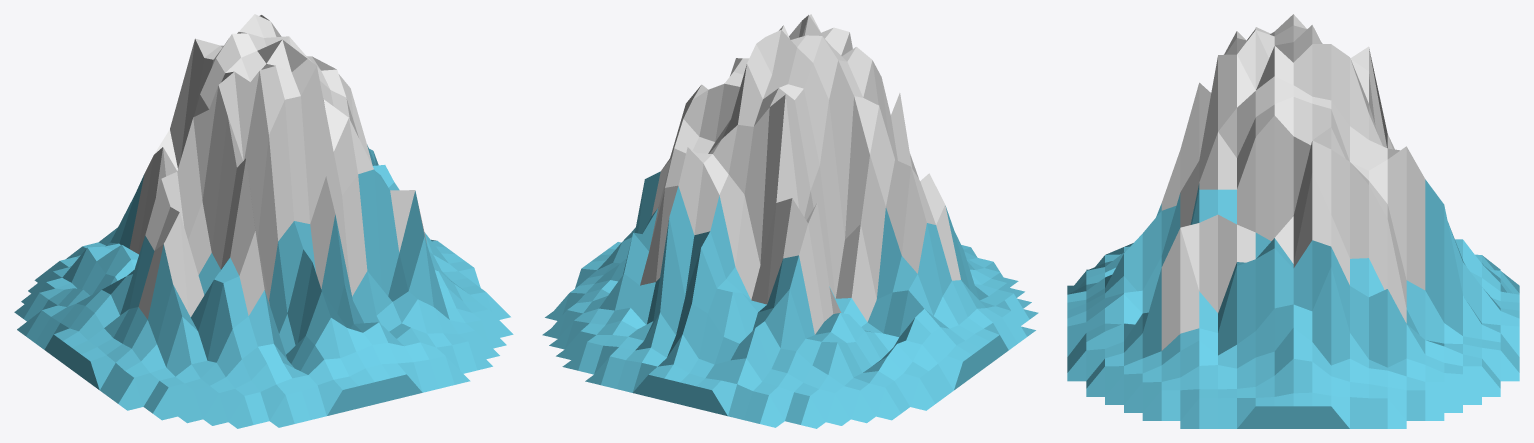
The model's file is IceMountain4.fbx.
3 renders of one model, left to right at view 1: azimuth 30°, elevation 25°; view 2: azimuth 150°, elevation 25°; view 3: azimuth 270°, elevation 25°, orthographic. The views are drawn at different scales.
Parts seen in each view (by area): view 1: Landscape; view 2: Landscape; view 3: Landscape.
Part boxes in pixels (<box>): Landscape: <box>14,14,513,428</box>; Landscape: <box>542,14,1038,428</box>; Landscape: <box>1067,14,1519,428</box>.
Size of the model in its own units: 3600 by 2713 by 3600.
